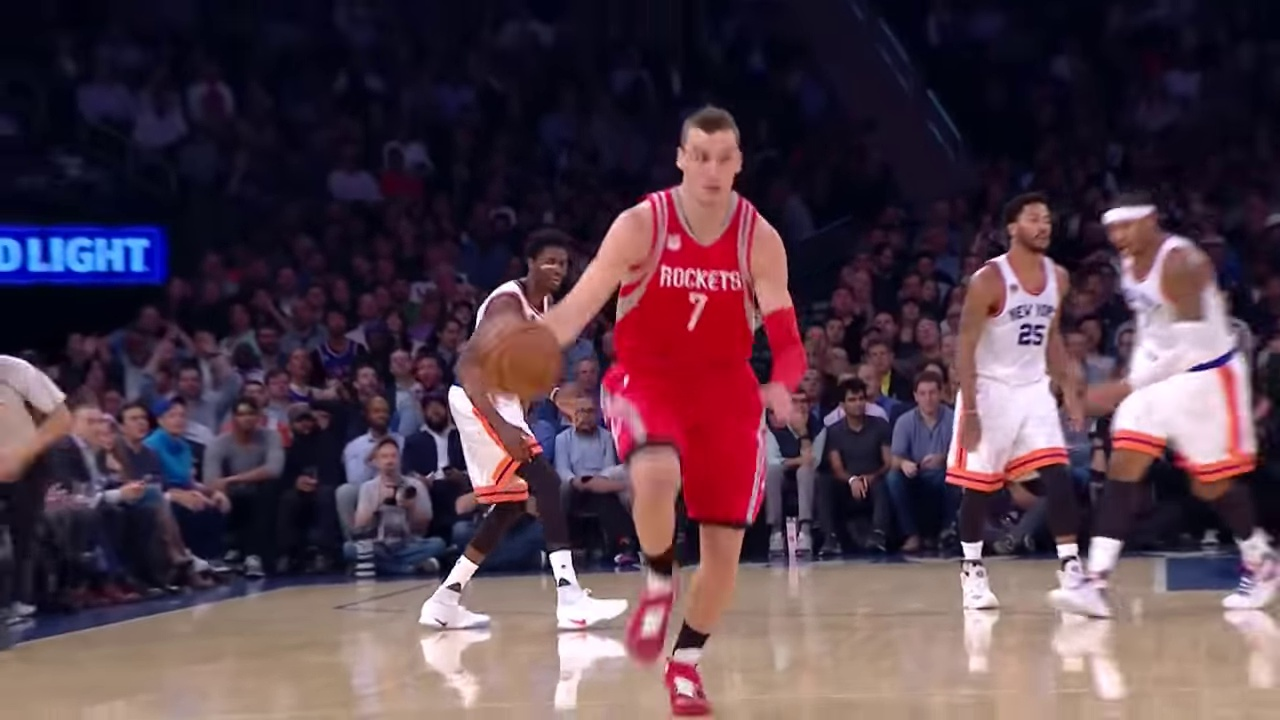bola: (452, 315, 570, 405)
person: (465, 103, 817, 658)
